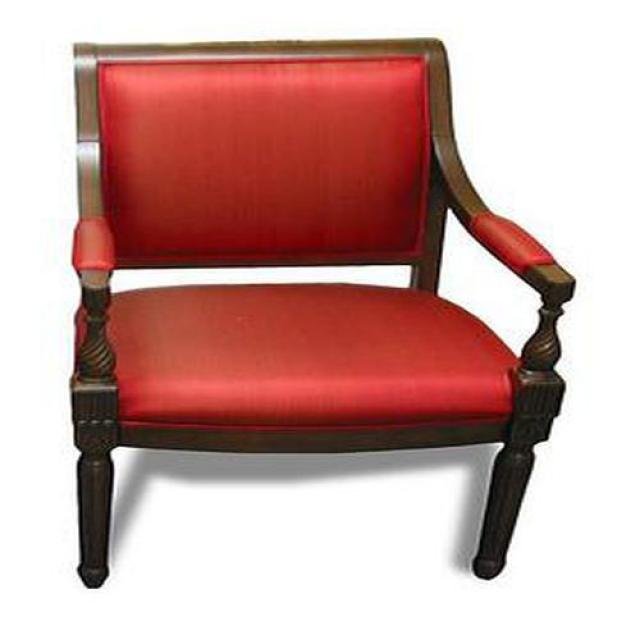chair: (68, 38, 577, 591)
